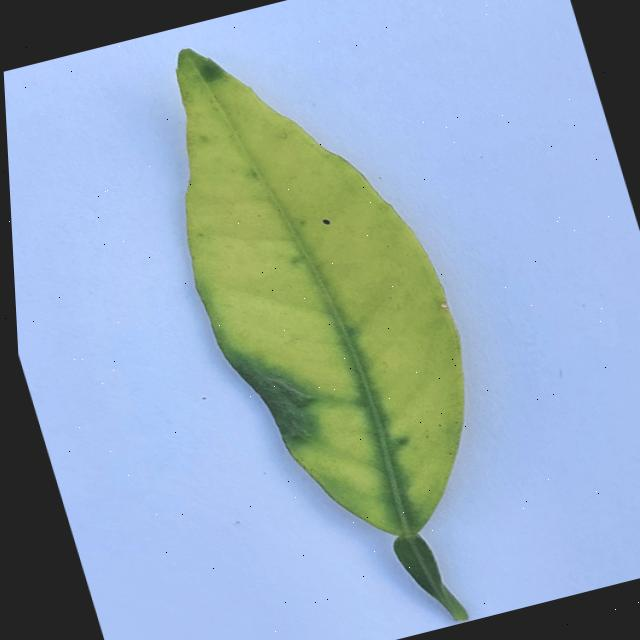greening: (175, 49, 464, 616)
